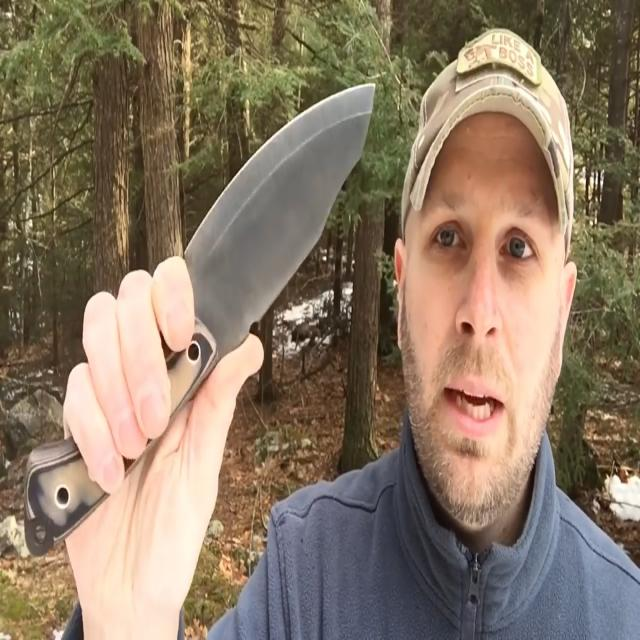knife: (19, 78, 386, 568)
